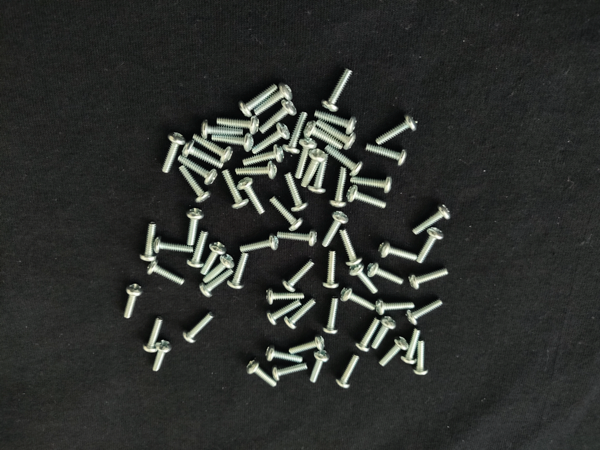shortscrew: (238, 83, 278, 118), (322, 68, 353, 113), (253, 82, 293, 116), (376, 114, 418, 145), (179, 165, 212, 204), (269, 196, 304, 232), (260, 100, 297, 134), (252, 123, 291, 155), (182, 139, 225, 168), (317, 120, 358, 150), (192, 134, 234, 163), (413, 203, 451, 235), (178, 155, 218, 185), (325, 145, 363, 176), (238, 176, 267, 216), (282, 259, 316, 293), (304, 121, 345, 149), (315, 109, 358, 135), (222, 169, 249, 210), (183, 311, 216, 344), (365, 142, 408, 167), (283, 112, 308, 155), (162, 131, 187, 174), (284, 172, 310, 213), (322, 210, 350, 248), (406, 299, 445, 326), (146, 259, 185, 286), (417, 227, 445, 264), (347, 185, 388, 210), (285, 299, 317, 331), (199, 269, 234, 298), (302, 148, 327, 188), (243, 143, 285, 166), (203, 253, 235, 283), (266, 300, 302, 326), (339, 228, 363, 267), (379, 336, 409, 367), (246, 358, 278, 387), (340, 287, 377, 312), (200, 241, 227, 275), (371, 315, 397, 350), (308, 153, 329, 196), (349, 263, 378, 294), (409, 268, 449, 290), (216, 115, 260, 135), (187, 230, 210, 268), (368, 262, 404, 286), (201, 120, 244, 140), (378, 241, 417, 263), (209, 133, 254, 152), (228, 252, 250, 290), (151, 236, 195, 255), (336, 355, 360, 389), (236, 161, 278, 180), (357, 319, 380, 353), (240, 233, 279, 253), (329, 167, 348, 208), (278, 228, 318, 247), (289, 334, 325, 355), (351, 176, 393, 194), (401, 328, 421, 365), (144, 316, 164, 353), (123, 283, 143, 319), (266, 345, 303, 364), (273, 363, 309, 382), (266, 287, 304, 305), (322, 250, 340, 288), (187, 208, 205, 246), (375, 299, 415, 316), (141, 222, 158, 262), (152, 340, 173, 372), (310, 350, 330, 383), (324, 297, 339, 335), (413, 342, 429, 376)
